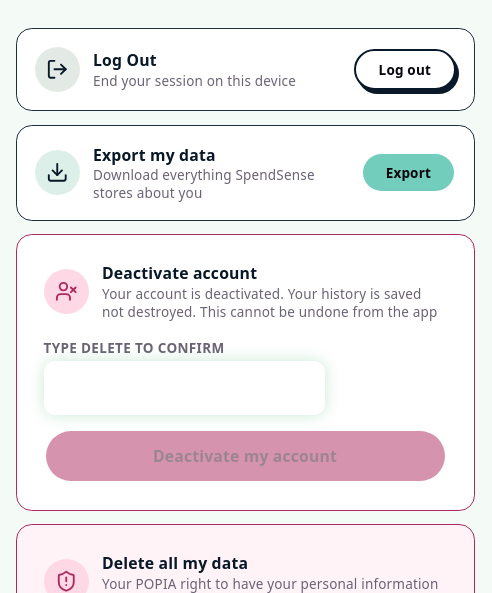
SettingsAccountPage › downloads the data export as a JSON blob
Click the button "Export" at (408, 173), box [361,152,456,193]
(page scrolled)
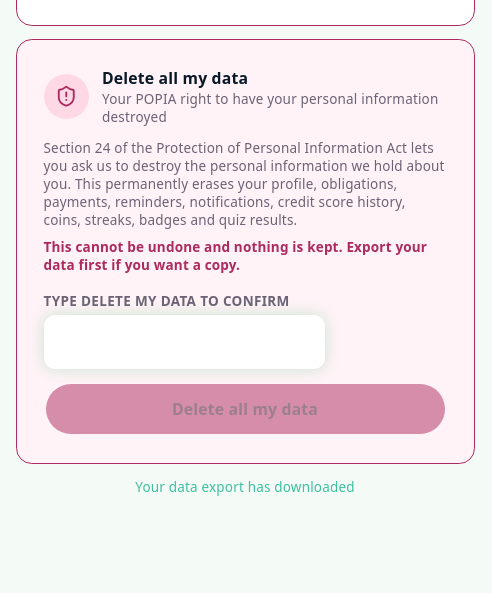
Check: the text "Your data export has downloaded" is shown, box [135,478,355,496]
